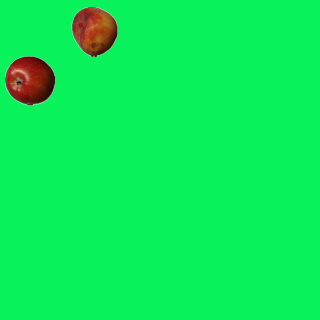Apple Braeburn: (4, 55, 54, 105)
Peach: (69, 6, 119, 56)
